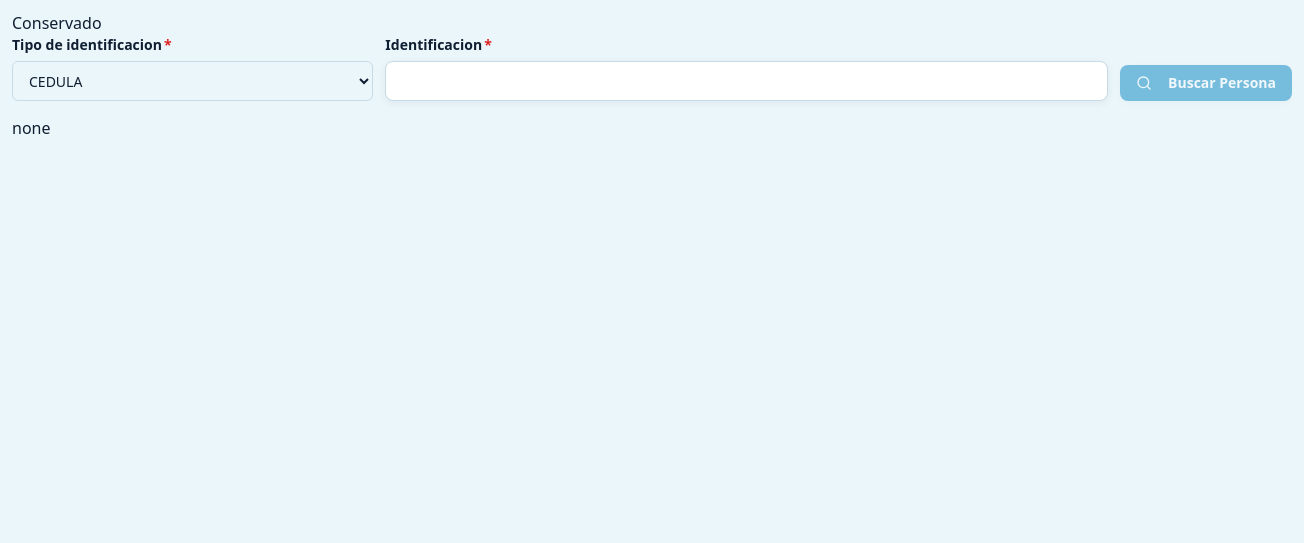
SearchOrCreatePersona comun › completa y cancela borrador sin perder padre: Cliente
Type " 0102030405001 " into the field labelled "Identificacion*".
click(747, 81); type(" 0102030405001 ")  # box x1=385 y1=61 x2=1108 y2=101
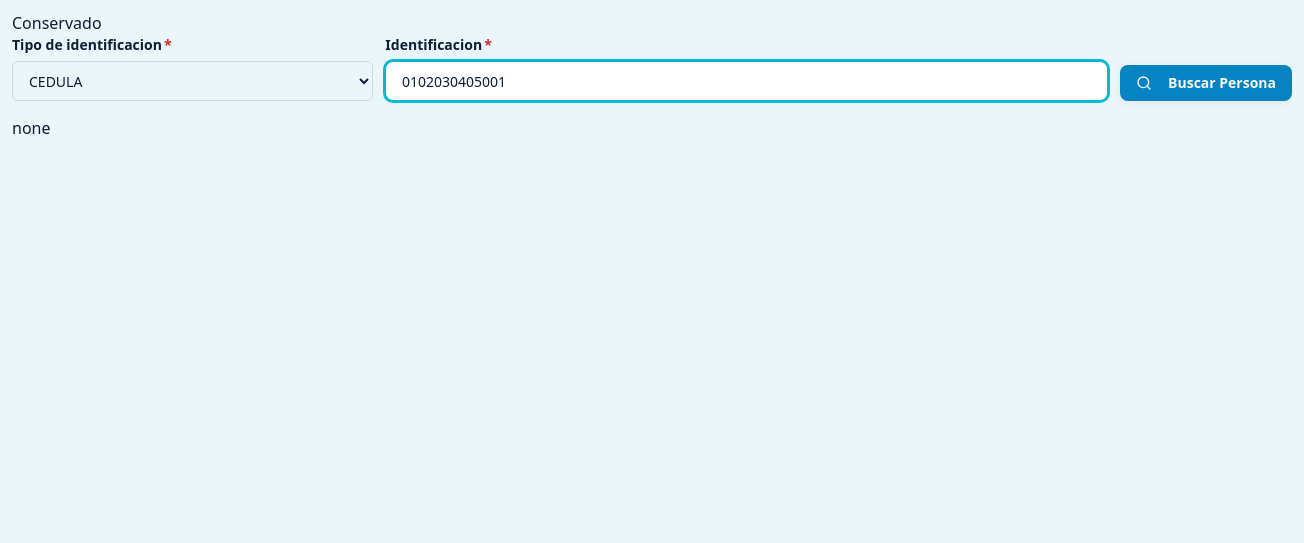
Click the button "Buscar Persona".
click(1206, 83)  # box x1=1120 y1=65 x2=1292 y2=101
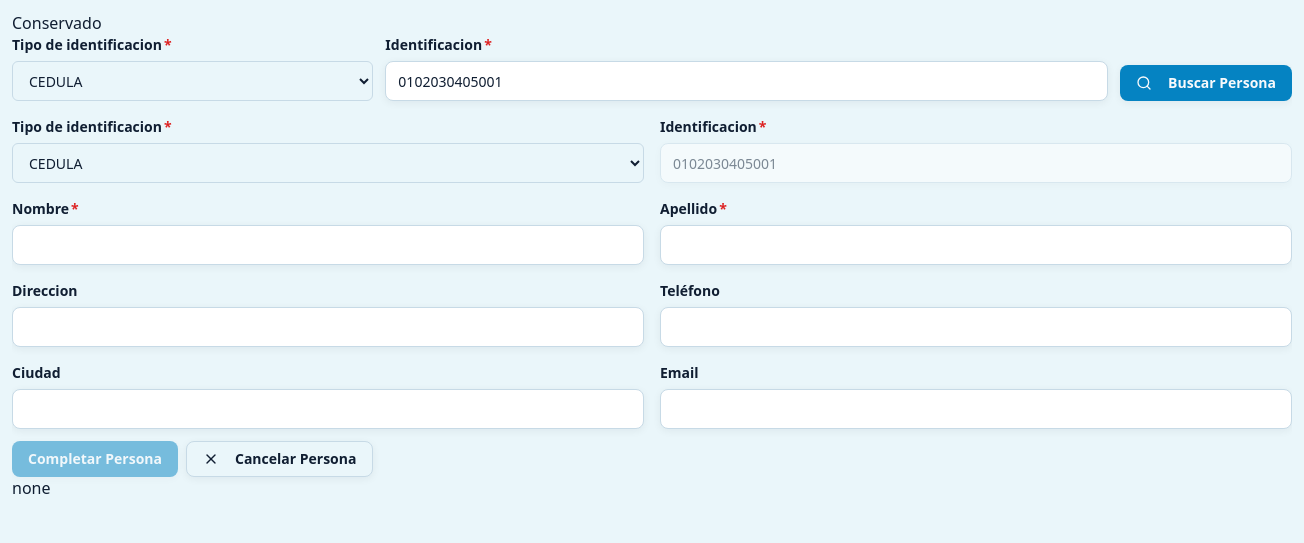
Type "Ana" into the field labelled "Nombre*".
click(328, 245); type("Ana")  # box x1=12 y1=225 x2=644 y2=265
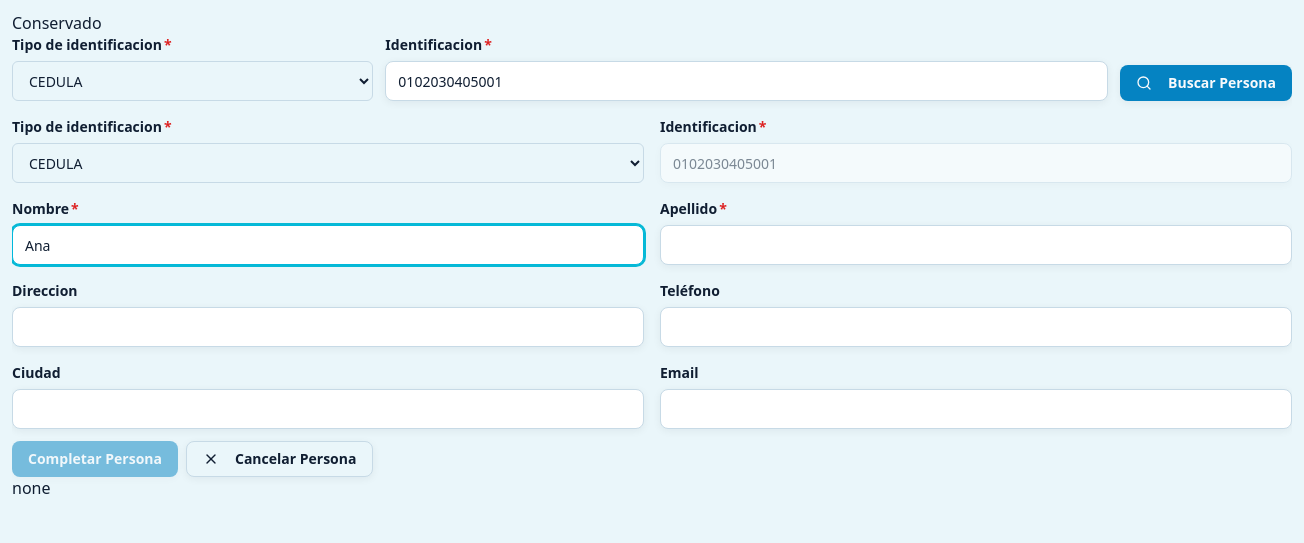
Type "Perez" into the field labelled "Apellido*".
click(976, 245); type("Perez")  # box x1=660 y1=225 x2=1292 y2=265
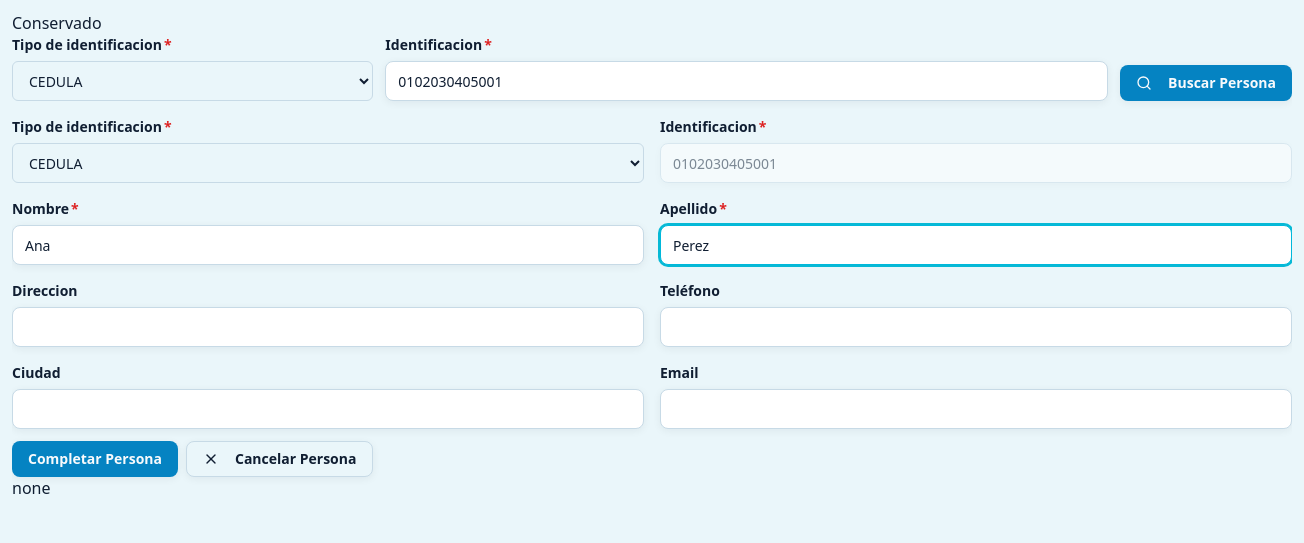
Click the button "Completar Persona".
click(95, 459)  # box x1=12 y1=441 x2=178 y2=477
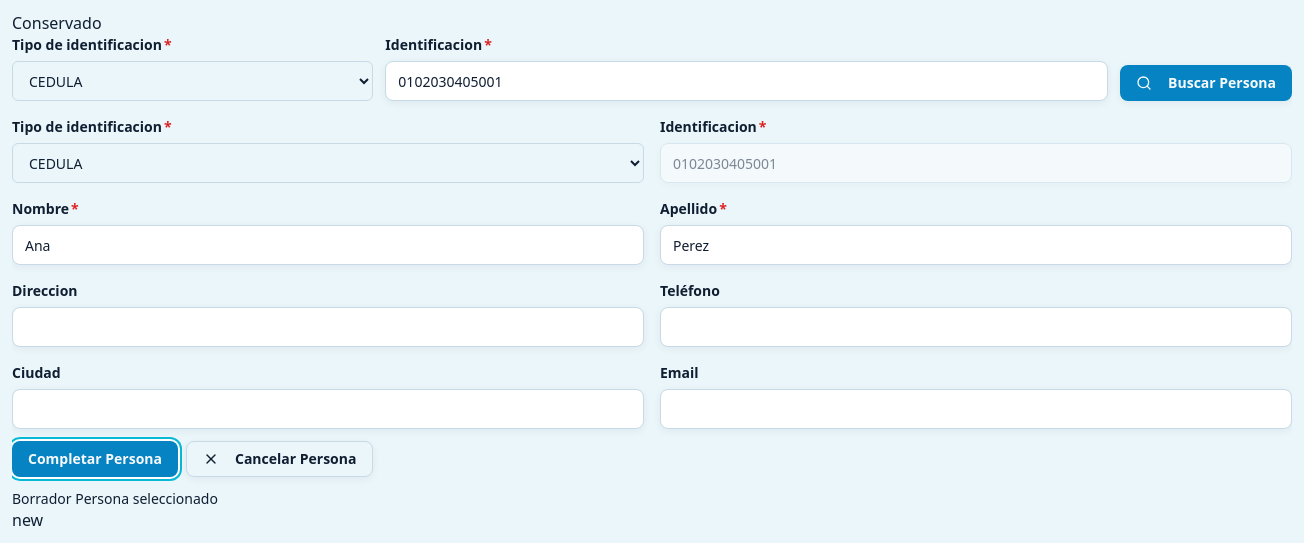
Expected: the field named "Dato padre" holds "Conservado", x1=12 y1=12 x2=243 y2=35
Result: the text "Borrador Persona seleccionado" is shown at x1=12 y1=489 x2=218 y2=508
Click the button "Cancelar Persona".
click(280, 459)  # box x1=186 y1=441 x2=374 y2=477
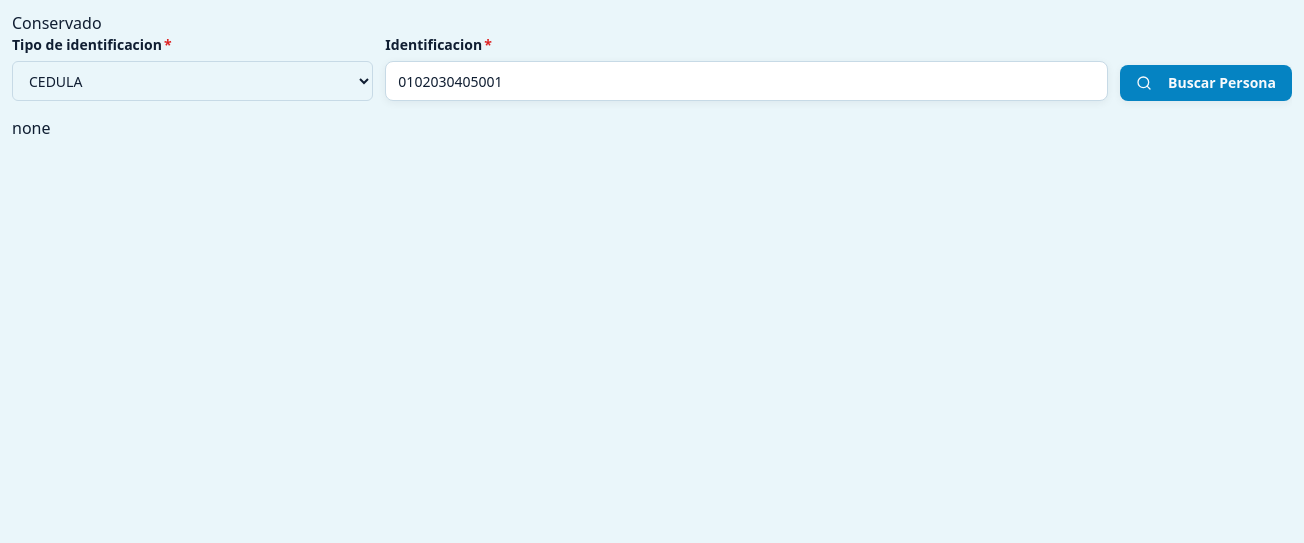
Expected: the field named "Dato padre" holds "Conservado", x1=12 y1=12 x2=243 y2=35
Result: the label labelled "Nombre" is gone
